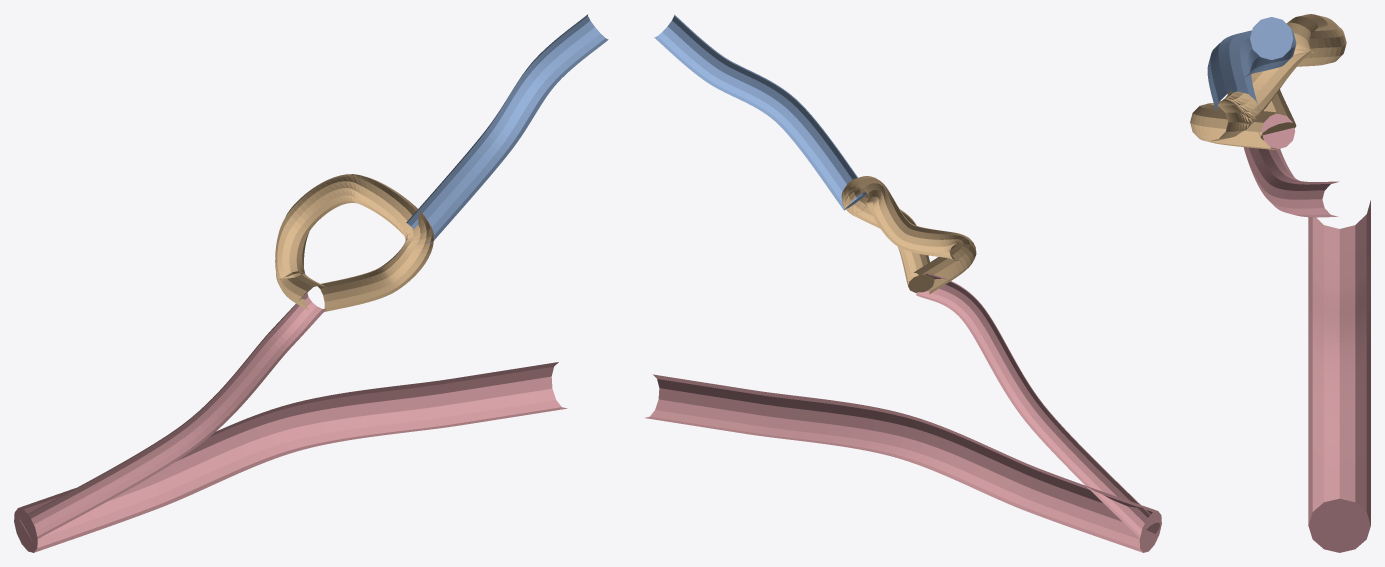
Rendered from disease_avm.glb.
3 views of the same model, side by side, from view 1: azimuth 30°, elevation 25°; view 2: azimuth 150°, elevation 25°; view 3: azimuth 270°, elevation 25° (orthographic). The views are drawn at different scales.
Visible parts, largest first — view 1: Carótida intracraniana — vaso portador, Nido de MAV — rede esquemática, Artéria nutridora de MAV, Veia de drenagem de MAV; view 2: Carótida intracraniana — vaso portador, Artéria nutridora de MAV, Veia de drenagem de MAV, Nido de MAV — rede esquemática; view 3: Carótida intracraniana — vaso portador, Nido de MAV — rede esquemática, Veia de drenagem de MAV, Artéria nutridora de MAV.
Boxes of the visible parts, x1,y1,x2,y2 form: Carótida intracraniana — vaso portador: [14, 362, 567, 552]; Nido de MAV — rede esquemática: [275, 174, 433, 311]; Artéria nutridora de MAV: [19, 290, 326, 539]; Veia de drenagem de MAV: [406, 14, 608, 243]; Carótida intracraniana — vaso portador: [645, 374, 1161, 552]; Artéria nutridora de MAV: [916, 272, 1160, 538]; Veia de drenagem de MAV: [654, 14, 866, 210]; Nido de MAV — rede esquemática: [841, 176, 976, 294]; Carótida intracraniana — vaso portador: [1308, 200, 1370, 552]; Nido de MAV — rede esquemática: [1190, 14, 1346, 150]; Veia de drenagem de MAV: [1207, 17, 1296, 111]; Artéria nutridora de MAV: [1243, 113, 1338, 217].
Size of the model in its own units: 6.24 by 4.52 by 1.33.
